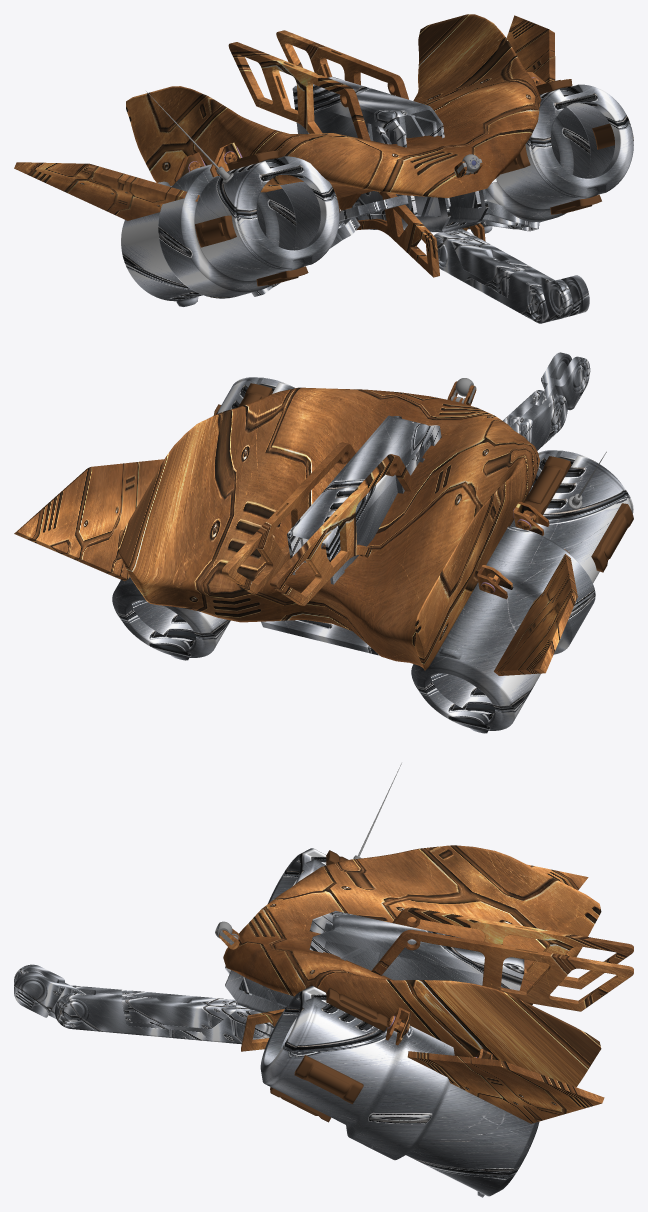
File: Drone1.glb
3 views of the same model, one above another, from view 1: azimuth 30°, elevation 25°; view 2: azimuth 150°, elevation 25°; view 3: azimuth 270°, elevation 25° (orthographic). The views are drawn at different scales.
Parts seen in each view (by area): view 1: polySurface1875; view 2: polySurface1875; view 3: polySurface1875.
Part boxes in pixels (x1=…): polySurface1875: x1=14, y1=14, x2=633, y2=323; polySurface1875: x1=14, y1=352, x2=633, y2=733; polySurface1875: x1=14, y1=763, x2=633, y2=1197.
Size of the model in its own units: 0.0403 by 0.02 by 0.0438.
Materials: 6 (2 with a texture image).
